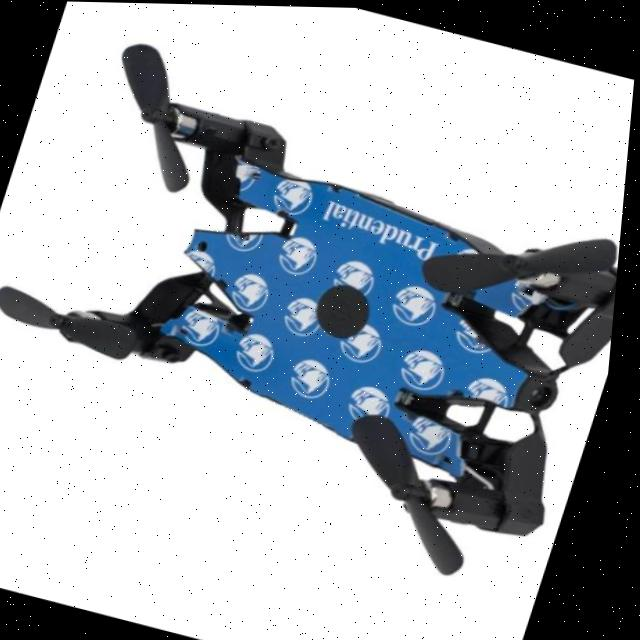drones: (0, 18, 639, 606)
